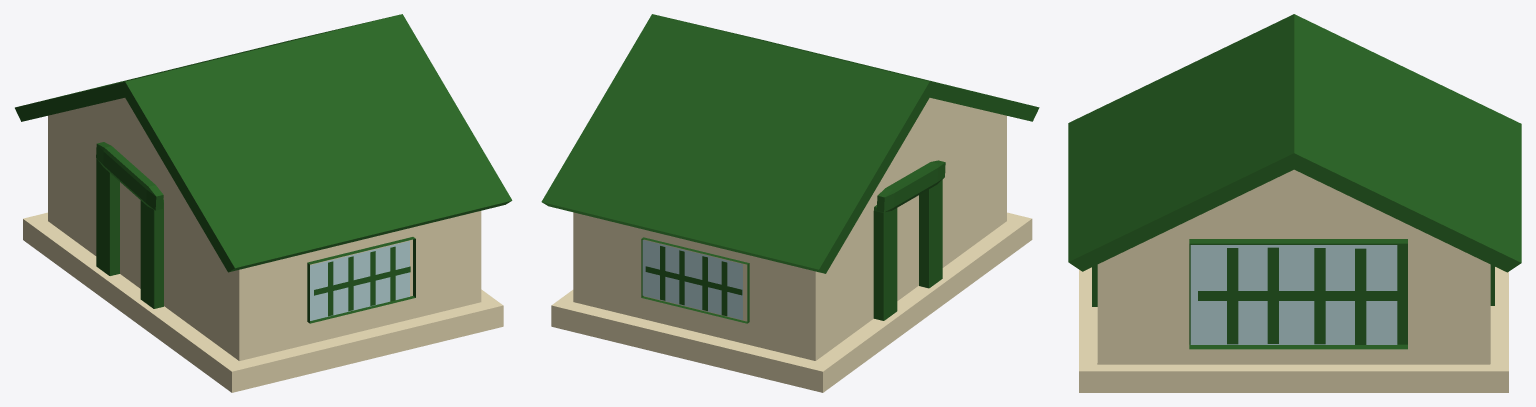
Rendered from hus_GamerJon.gltf.
The picture shows the model from 3 angles, left to right: view 1: azimuth 30°, elevation 25°; view 2: azimuth 150°, elevation 25°; view 3: azimuth 270°, elevation 25°; orthographic projection. The views are drawn at different scales.
Parts seen in each view (by area): view 1: tak.016, hus.016, window2game, windowram.002, Cube.090, Cube.089, Cube.091; view 2: tak.016, hus.016, windowgamer.004, Cube.090, windowram.001, Cube.089, Cube.091; view 3: tak.016, hus.016, windowgamer, windowram.
Part boxes in pixels (<box>): tak.016: <box>15,14,512,272</box>; hus.016: <box>23,98,503,392</box>; window2game: <box>310,241,409,320</box>; windowram.002: <box>307,237,415,323</box>; Cube.090: <box>96,158,119,275</box>; Cube.089: <box>140,198,163,308</box>; Cube.091: <box>96,142,163,210</box>; tak.016: <box>541,14,1039,273</box>; hus.016: <box>551,98,1032,392</box>; windowgamer.004: <box>642,240,742,319</box>; Cube.090: <box>873,205,897,320</box>; windowram.001: <box>641,237,749,323</box>; Cube.089: <box>919,179,942,288</box>; Cube.091: <box>876,160,945,212</box>; tak.016: <box>1068,14,1521,272</box>; hus.016: <box>1079,169,1508,392</box>; windowgamer: <box>1190,245,1397,344</box>; windowram: <box>1189,239,1407,349</box>.
Size of the model in its own units: 0.1855 by 0.1532 by 0.2554.
